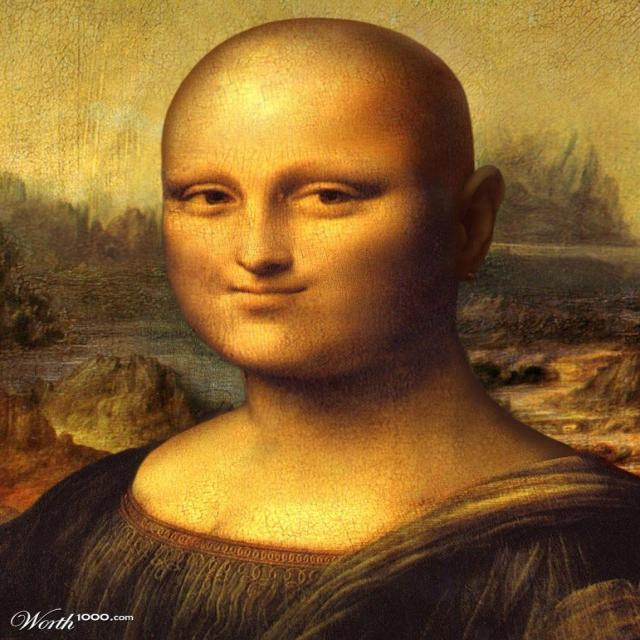no_helmet: (111, 3, 536, 227)
